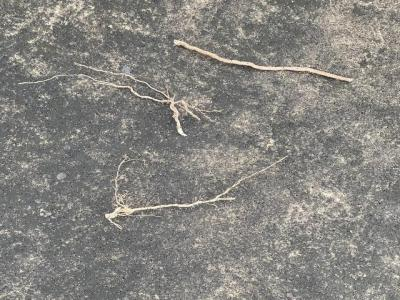Root: (19, 62, 219, 136), (105, 156, 287, 228), (174, 40, 352, 82)
